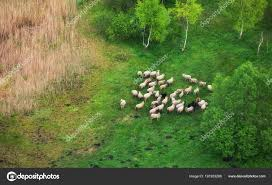sheep: (166, 104, 177, 114), (149, 111, 161, 120), (157, 82, 170, 90), (165, 76, 176, 85), (138, 78, 147, 89), (185, 106, 195, 115), (197, 99, 206, 109), (191, 85, 200, 95), (167, 88, 177, 97), (155, 72, 163, 83), (140, 69, 151, 77), (156, 102, 165, 111), (161, 96, 169, 106), (171, 97, 181, 105), (206, 83, 215, 91), (184, 86, 192, 95), (146, 80, 155, 88), (136, 89, 143, 99), (134, 101, 142, 109), (176, 105, 184, 113), (136, 69, 144, 77), (143, 92, 153, 98), (130, 88, 137, 96), (120, 99, 125, 109), (151, 100, 158, 107), (150, 71, 158, 77), (181, 72, 188, 78), (148, 86, 155, 92), (178, 90, 183, 98), (150, 106, 155, 113), (198, 81, 205, 86), (189, 78, 196, 83), (154, 91, 160, 96)
